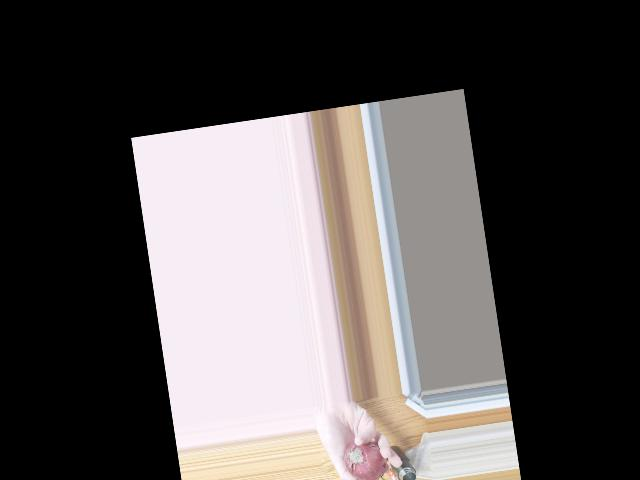onion: (338, 434, 383, 480)
